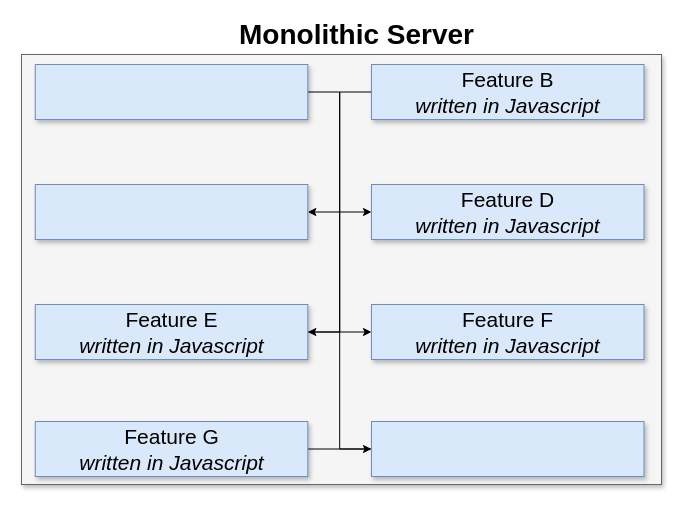
Some shapes in this 685 by 509 pixel diagram are drawn without their labels. The shapes that lost their labels are listed below. From the top down, each one's centre as x and y in pixels, then its label:
point 172,93: Feature A written in Javascript
point 172,213: Feature C written in Javascript
point 508,450: Feature H written in Javascript
